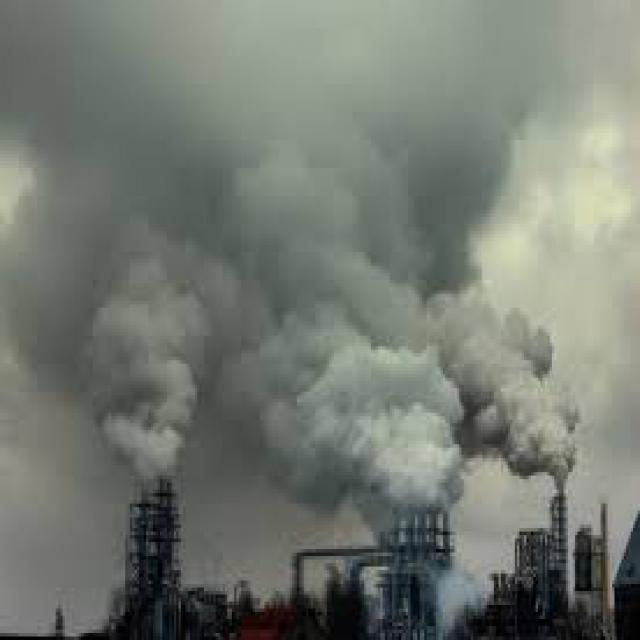smoke: (81, 157, 610, 514)
